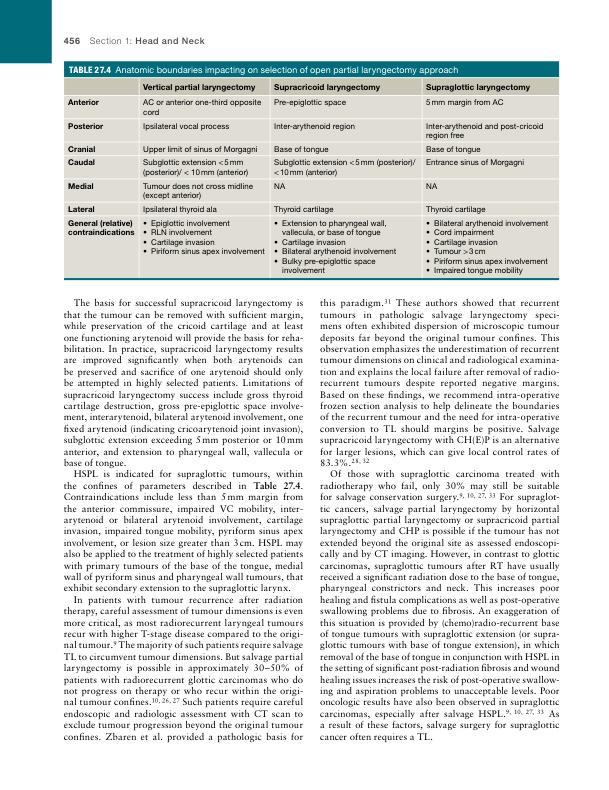caption: (67, 65, 459, 75)
header: (89, 36, 206, 45)
table: (64, 77, 559, 280)
text: (63, 297, 305, 744), (319, 297, 561, 744)
